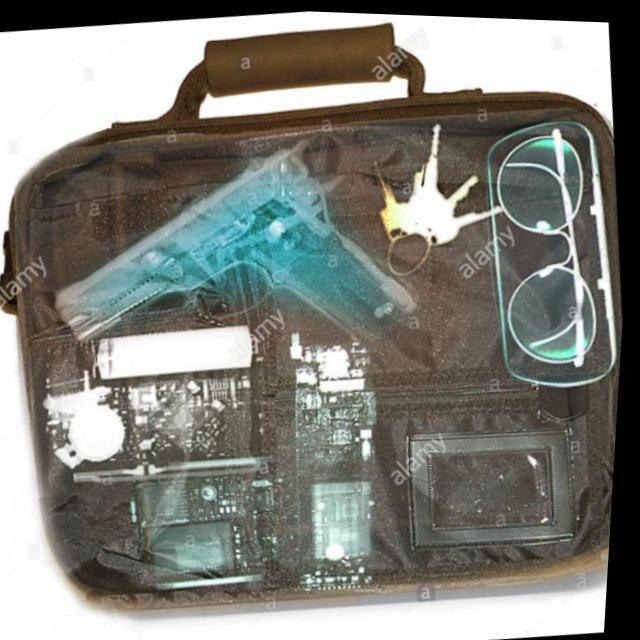weapon: (364, 111, 516, 279)
